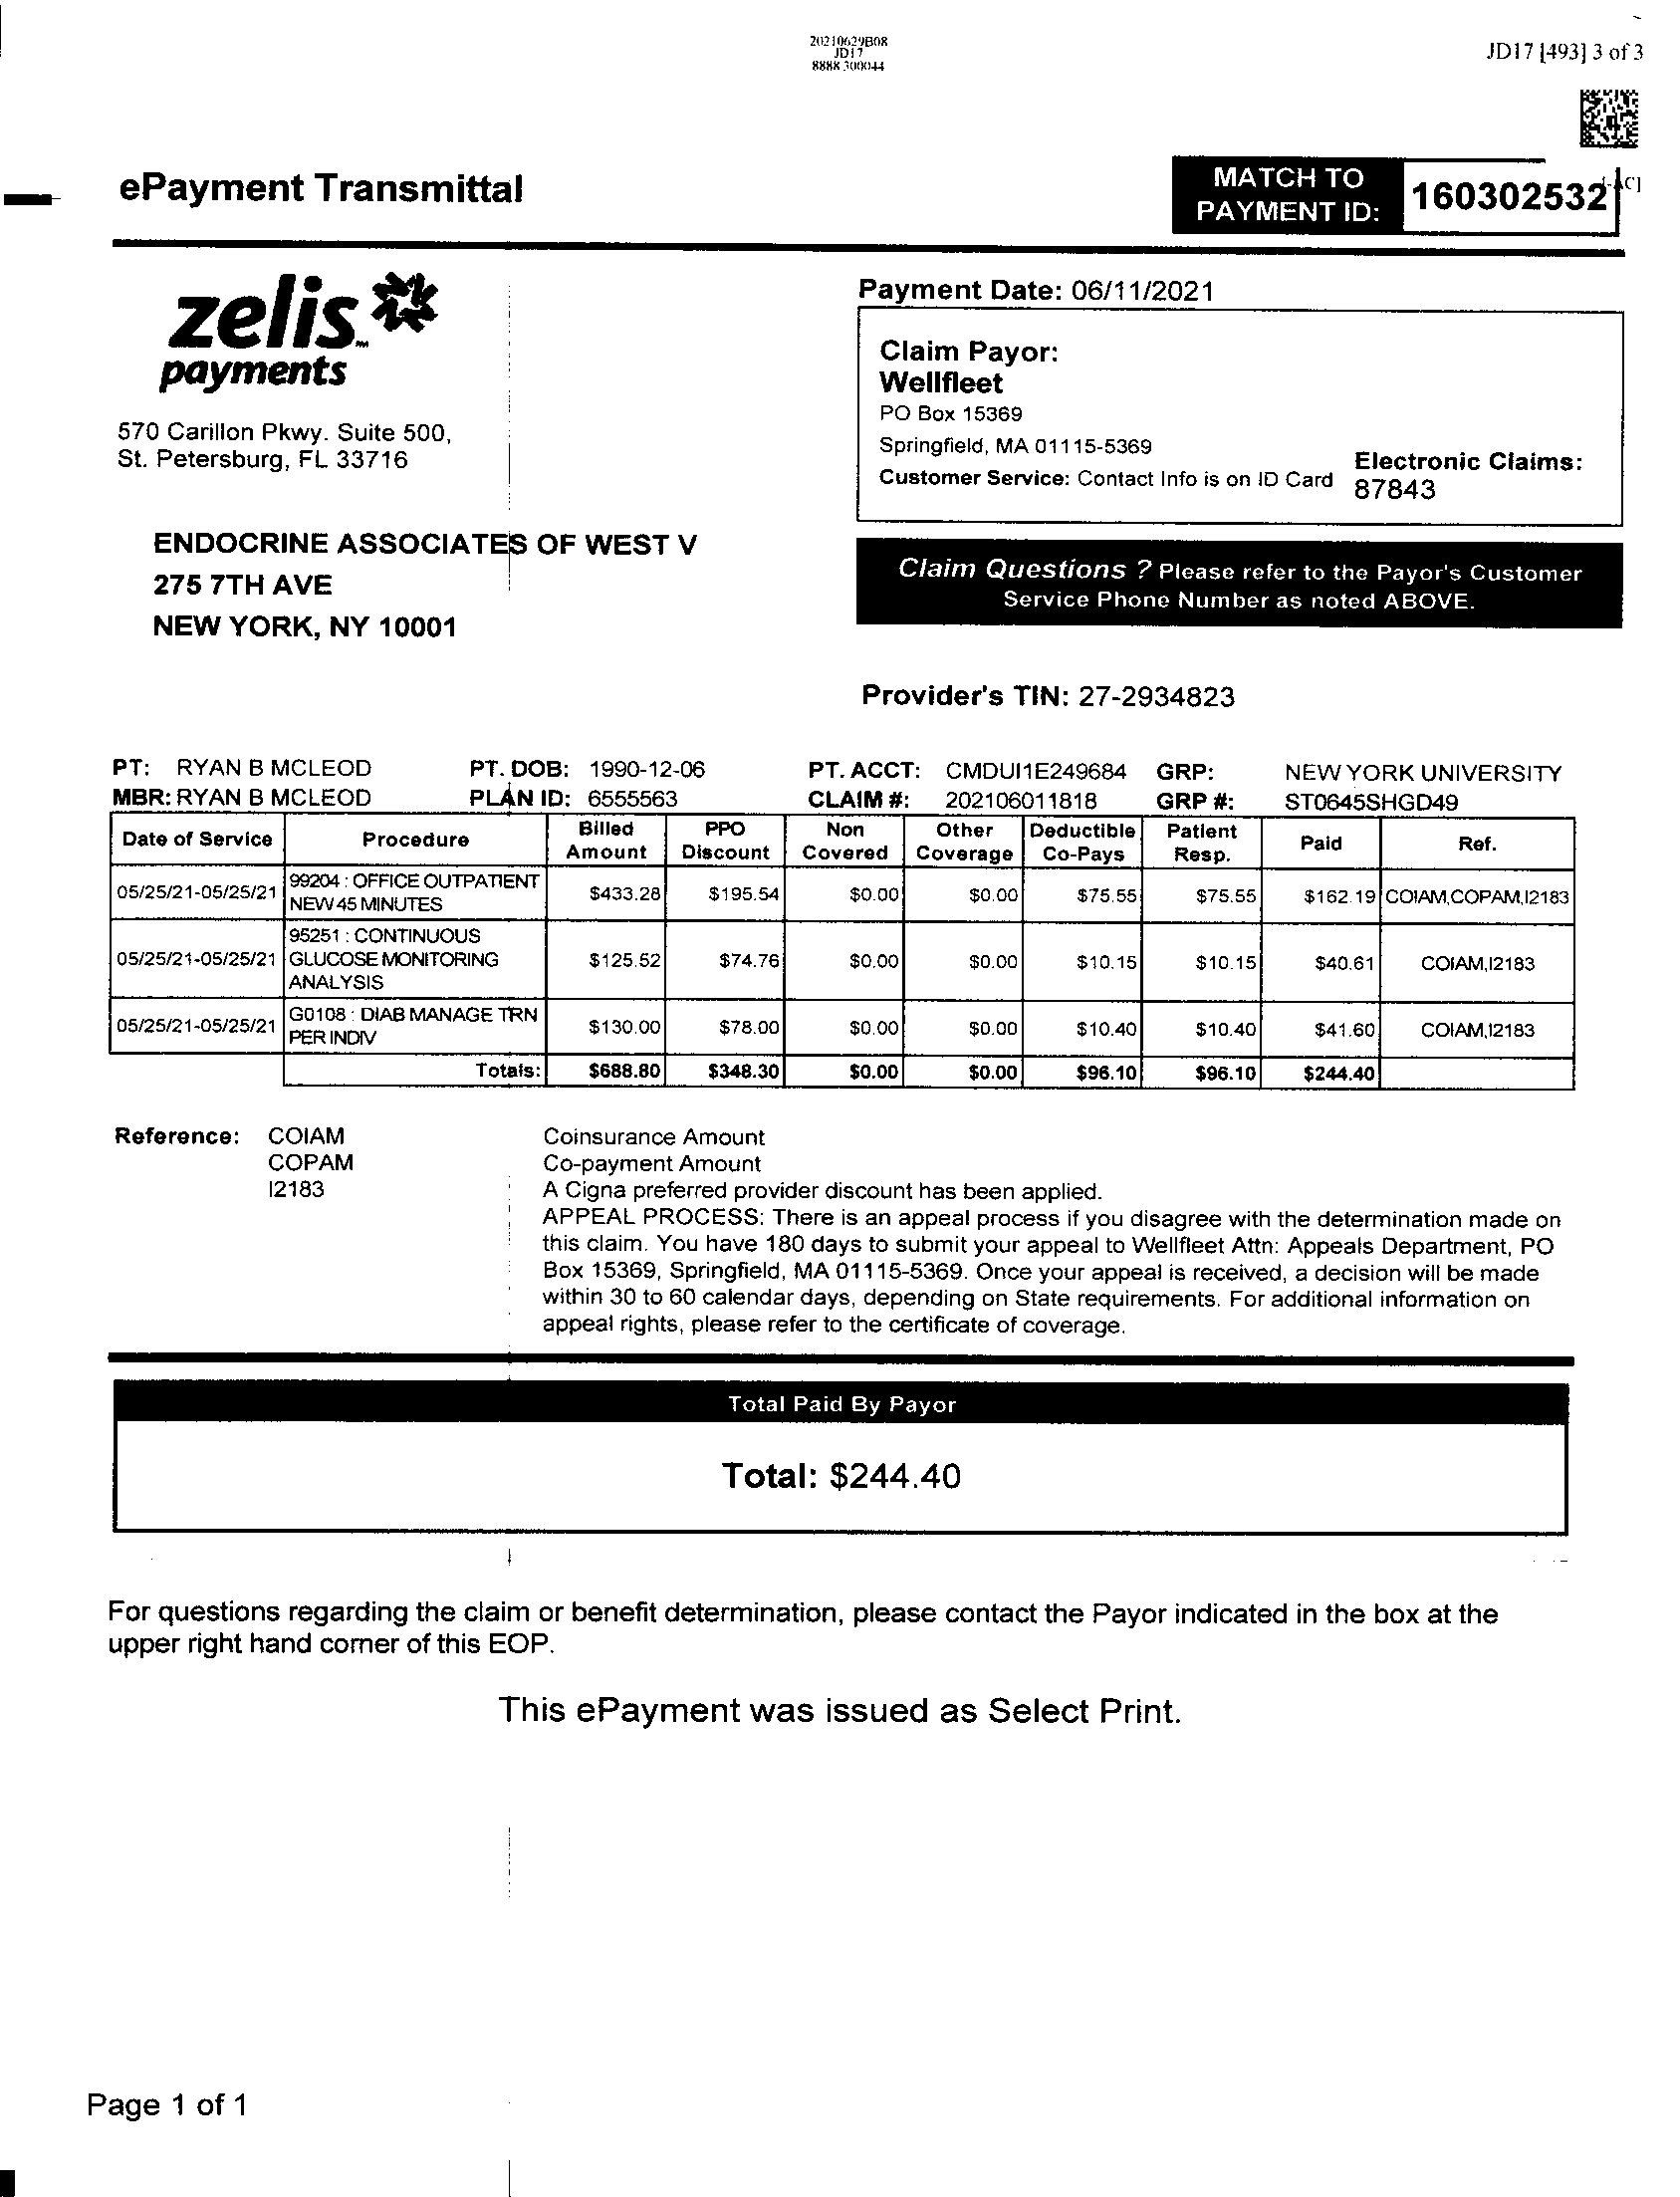data: (849, 298, 1634, 538)
table: (83, 746, 1592, 1105)
